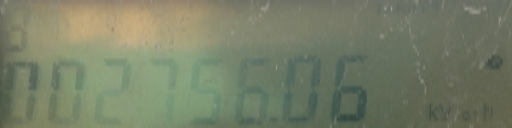0: (283, 52, 322, 128), (46, 55, 84, 128), (1, 58, 40, 128), (147, 49, 177, 128)
2: (89, 53, 133, 126), (232, 53, 267, 128)
6: (332, 48, 370, 128), (190, 50, 225, 128)
d: (265, 115, 281, 128)
